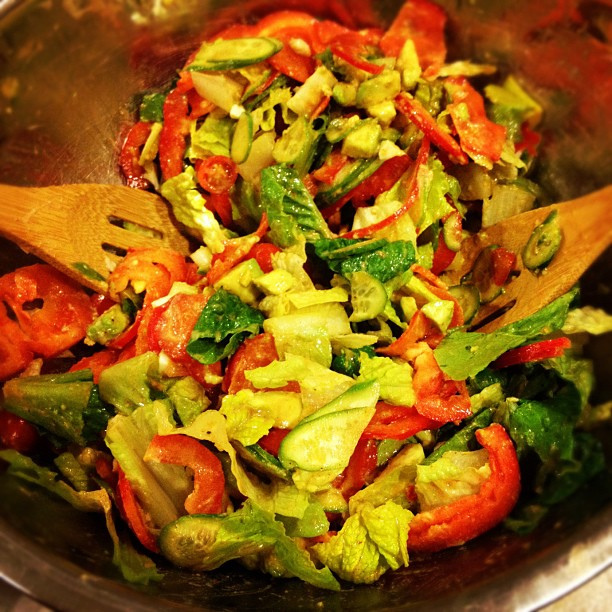chopped lettuce: (142, 54, 488, 538)
